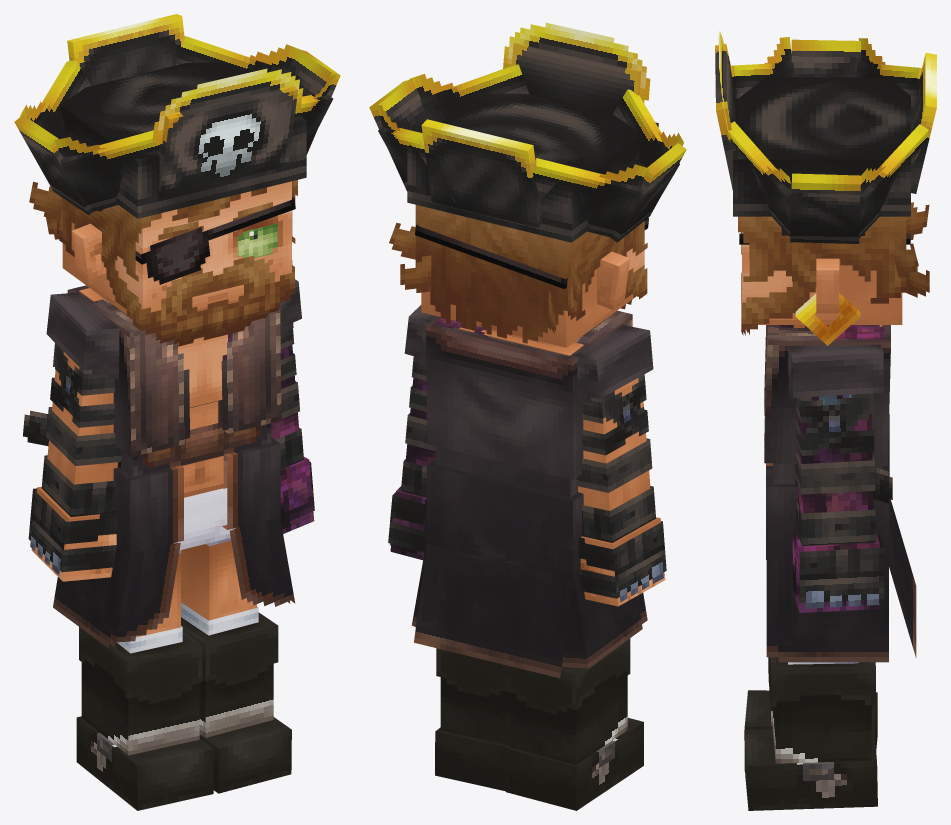
3 renders of one model, left to right at view 1: azimuth 30°, elevation 25°; view 2: azimuth 150°, elevation 25°; view 3: azimuth 270°, elevation 25°, orthographic. The views are drawn at different scales.
Parts seen in each view (by area): view 1: Node.mesh (×4), Coat2.mesh, BandanaMiddle.mesh, Side.mesh (×7), L-Boot3.mesh (×2), pelvisPart.mesh, R_Side_Cloth_1.mesh, R-Boot.mesh, Beard.mesh, Face.mesh, R-Boot2.mesh, R-Glove2.mesh (+27 smaller); view 2: Coat2.mesh, Node.mesh (×3), HairBase.mesh, Back_Cloth_1.mesh, Side.mesh (×7), BandanaMiddle.mesh, pelvisPart.mesh, L-Boot3.mesh (×2), R-Boot.mesh, R_Side_Cloth_1.mesh, R-Glove2.mesh, R-Glove.mesh (+21 smaller); view 3: BandanaMiddle.mesh, Side.mesh (×7), L_Side_Cloth_1.mesh, HairBase.mesh, L-Boot.mesh, Coat2.mesh, L-Boot3.mesh, L-Glove2.mesh, L-Sleeve.mesh, L-Glove.mesh, Node.mesh (×3), L-Boot2.mesh (+14 smaller).
Part boxes in pixels (x1,y1,x2,y2): Node.mesh (×4): [23, 14, 303, 445]; Coat2.mesh: [67, 285, 281, 457]; BandanaMiddle.mesh: [60, 62, 306, 218]; Side.mesh (×7): [14, 36, 340, 214]; L-Boot3.mesh (×2): [81, 659, 273, 755]; pelvisPart.mesh: [113, 437, 280, 553]; R_Side_Cloth_1.mesh: [53, 543, 180, 647]; R-Boot.mesh: [76, 716, 213, 810]; Beard.mesh: [104, 255, 294, 336]; Face.mesh: [143, 181, 291, 312]; R-Boot2.mesh: [79, 627, 202, 703]; R-Glove2.mesh: [41, 407, 121, 516]; Coat2.mesh: [426, 310, 632, 479]; Node.mesh (×3): [421, 22, 650, 227]; HairBase.mesh: [415, 205, 647, 343]; Back_Cloth_1.mesh: [414, 543, 574, 678]; Side.mesh (×7): [369, 64, 686, 242]; BandanaMiddle.mesh: [407, 93, 658, 242]; pelvisPart.mesh: [426, 459, 583, 572]; L-Boot3.mesh (×2): [440, 670, 627, 764]; R-Boot.mesh: [505, 717, 643, 810]; R_Side_Cloth_1.mesh: [505, 561, 647, 668]; R-Glove2.mesh: [576, 438, 655, 542]; R-Glove.mesh: [578, 521, 666, 602]; BandanaMiddle.mesh: [733, 77, 910, 216]; Side.mesh (×7): [728, 37, 928, 243]; L_Side_Cloth_1.mesh: [766, 560, 888, 662]; HairBase.mesh: [738, 216, 906, 303]; L-Boot.mesh: [744, 725, 877, 810]; Coat2.mesh: [764, 325, 890, 465]; L-Boot3.mesh: [772, 695, 871, 763]; L-Glove2.mesh: [795, 451, 875, 545]; L-Sleeve.mesh: [788, 344, 884, 399]; L-Glove.mesh: [793, 529, 884, 608]; Node.mesh (×3): [715, 43, 936, 503]; L-Boot2.mesh: [768, 657, 875, 706].
Bounding box in the file's own units: 3.68 × 8.74 × 2.42.
2 materials, 2 textured.
